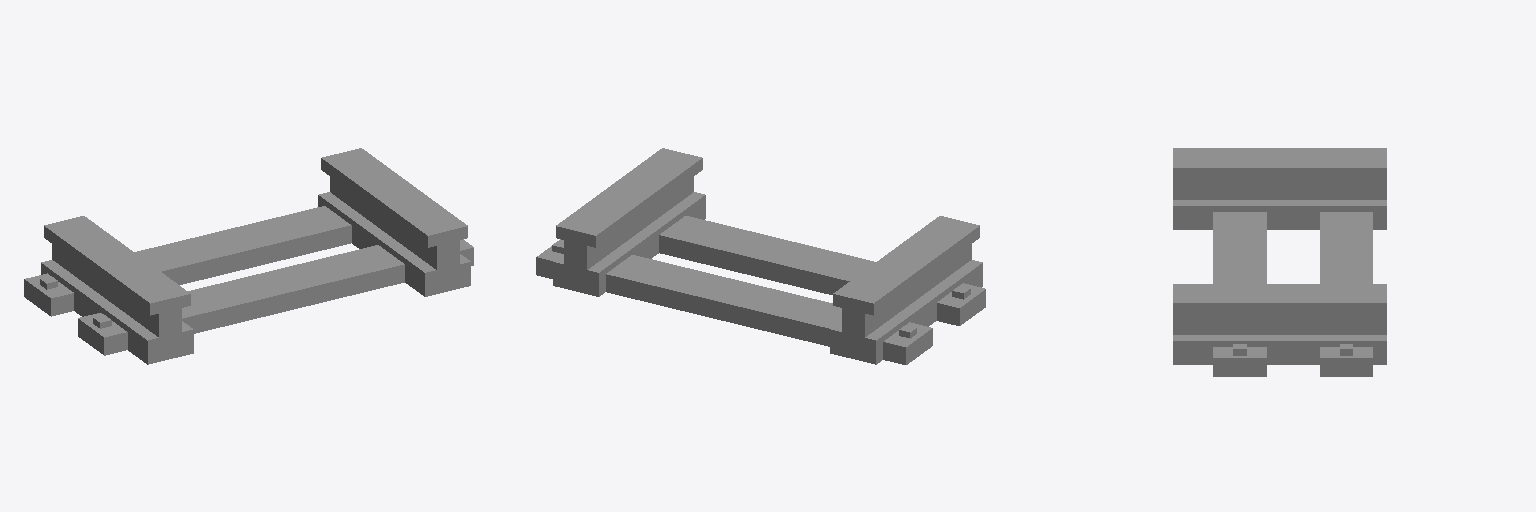
The model's file is rail.obj.
3 renders of one model, left to right at view 1: azimuth 30°, elevation 25°; view 2: azimuth 150°, elevation 25°; view 3: azimuth 270°, elevation 25°, orthographic.
Parts seen in each view (by area): view 1: cube; view 2: cube; view 3: cube.
Boxes of the visible parts, box(x1,y1,x2,y2) form: cube: box(24, 148, 473, 364); cube: box(536, 148, 985, 364); cube: box(1173, 148, 1386, 376).
Size of the model in its own units: 2 by 0.3125 by 1.